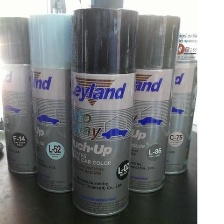aerosol_cans: (67, 2, 140, 219), (105, 9, 183, 195), (21, 8, 98, 195), (143, 9, 203, 176), (0, 13, 58, 177)
